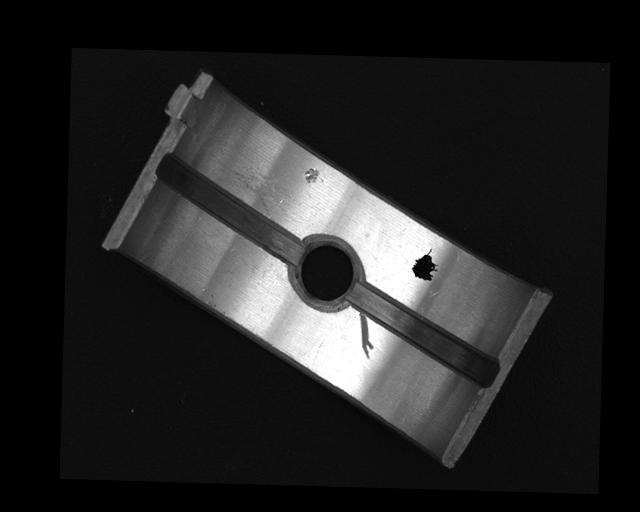blot: (410, 247, 439, 281)
bruise: (303, 166, 324, 184)
gap: (153, 153, 306, 265), (350, 284, 499, 385)
hole: (290, 237, 364, 310)
nick: (357, 312, 375, 359)
scratch: (214, 158, 284, 218)
